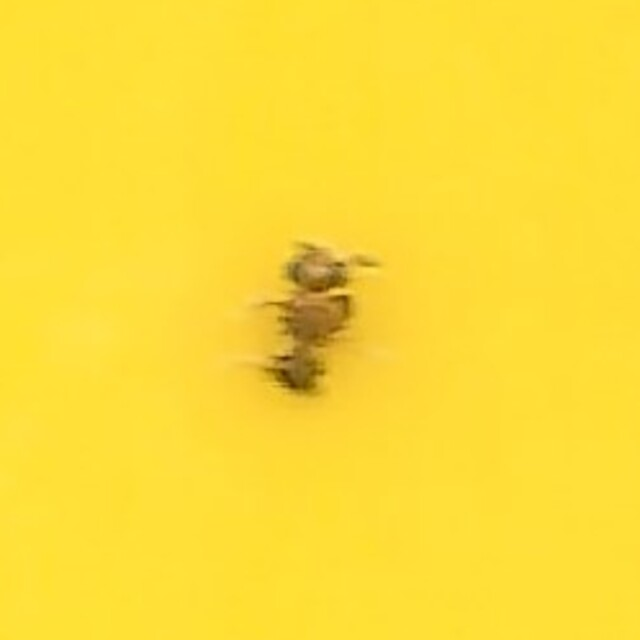Hymenoptera: (257, 236, 383, 404)
